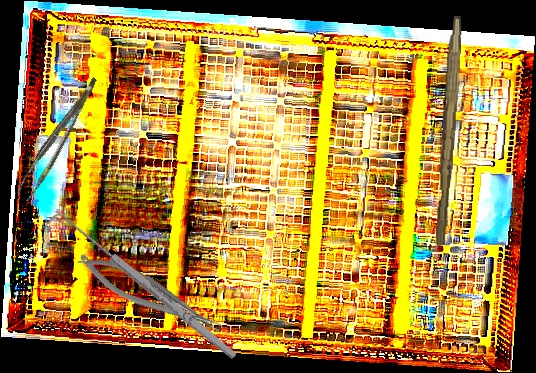Hook Surgical: (46, 206, 240, 368)
Needle Holder: (72, 242, 227, 347)
Scalpel Handle: (433, 15, 463, 246)
Tissue Forceps: (9, 77, 112, 202)
